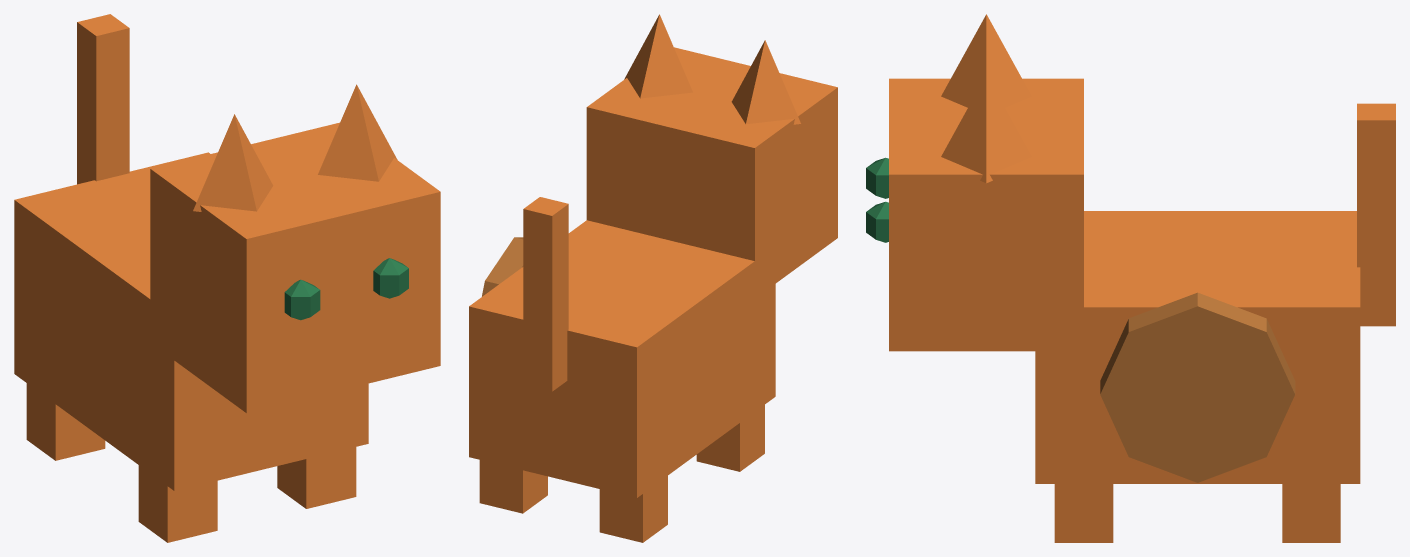
Rendered from mdl_mascota_gato.fbx.
3 renders of one model, left to right at view 1: azimuth 30°, elevation 25°; view 2: azimuth 150°, elevation 25°; view 3: azimuth 270°, elevation 25°, orthographic. The views are drawn at different scales.
Visible parts, largest first — view 1: mdl_mascota_gato; view 2: mdl_mascota_gato; view 3: mdl_mascota_gato.
Boxes of the visible parts, <box> form: mdl_mascota_gato: <box>14,14,440,542</box>; mdl_mascota_gato: <box>469,14,837,542</box>; mdl_mascota_gato: <box>866,14,1395,542</box>.
Bounding box in the file's own units: 82 × 154 × 163.
